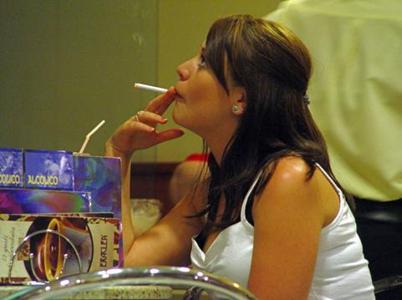person: (104, 13, 378, 300)
